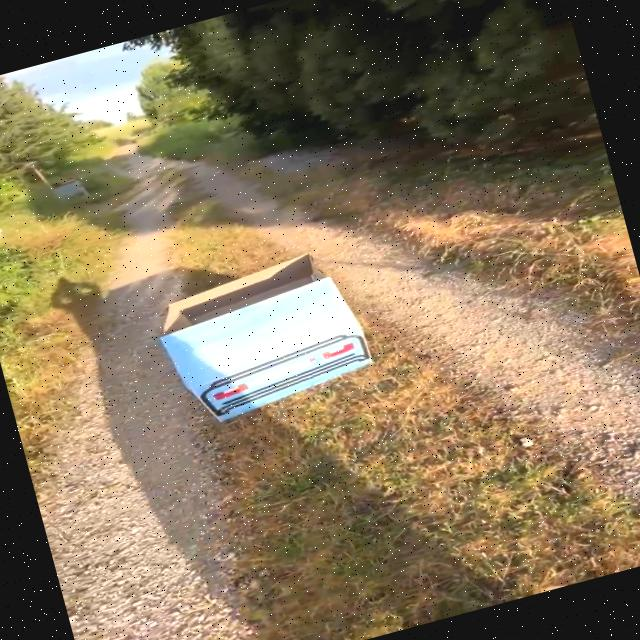blue_car: (83, 209, 434, 512)
